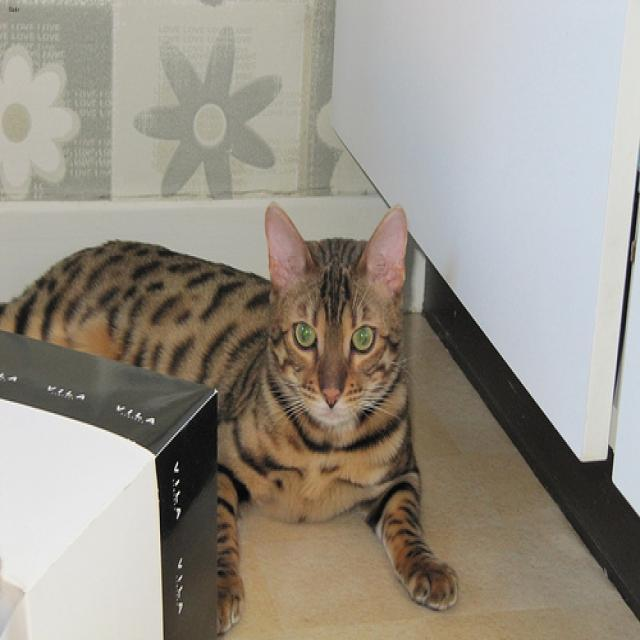Bengal: (259, 196, 418, 434)
